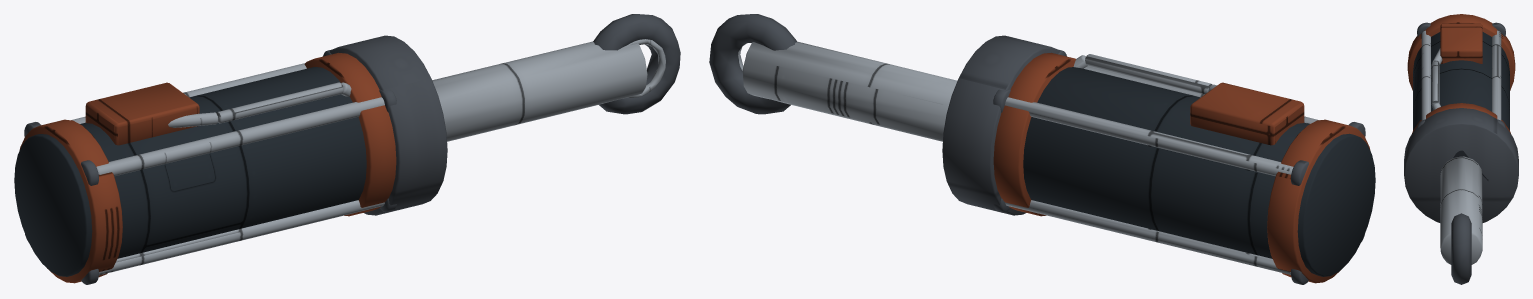
Rendered from ops_piston_ram_lod1.glb.
3 views of the same model, side by side, from view 1: azimuth 30°, elevation 25°; view 2: azimuth 150°, elevation 25°; view 3: azimuth 270°, elevation 25° (orthographic). The views are drawn at different scales.
Parts seen in each view (by area): view 1: LOD1_Armor, LOD1_Hull, LOD1_MOTION_RAM_EXTENSION_BrushedMetal, LOD1_BrushedMetal, LOD1_Mechanical, LOD1_MOTION_RAM_EXTENSION_Mechanical; view 2: LOD1_Armor, LOD1_Hull, LOD1_MOTION_RAM_EXTENSION_BrushedMetal, LOD1_Mechanical, LOD1_BrushedMetal, LOD1_MOTION_RAM_EXTENSION_Mechanical; view 3: LOD1_Mechanical, LOD1_Armor, LOD1_Hull, LOD1_MOTION_RAM_EXTENSION_BrushedMetal, LOD1_BrushedMetal, LOD1_MOTION_RAM_EXTENSION_Mechanical, LOD1_MechanicalDark.
Boxes of the visible parts, x1,y1,x2,y2 form: LOD1_Armor: [14, 67, 366, 276]; LOD1_Hull: [19, 52, 396, 283]; LOD1_MOTION_RAM_EXTENSION_BrushedMetal: [432, 39, 665, 141]; LOD1_BrushedMetal: [71, 63, 384, 275]; LOD1_Mechanical: [24, 35, 447, 284]; LOD1_MOTION_RAM_EXTENSION_Mechanical: [593, 14, 680, 114]; LOD1_Armor: [1023, 67, 1375, 276]; LOD1_Hull: [993, 52, 1370, 283]; LOD1_MOTION_RAM_EXTENSION_BrushedMetal: [738, 41, 957, 141]; LOD1_Mechanical: [942, 35, 1365, 284]; LOD1_BrushedMetal: [1005, 54, 1319, 274]; LOD1_MOTION_RAM_EXTENSION_Mechanical: [709, 14, 796, 114]; LOD1_Mechanical: [1404, 22, 1518, 222]; LOD1_Armor: [1413, 32, 1509, 130]; LOD1_Hull: [1407, 14, 1515, 134]; LOD1_MOTION_RAM_EXTENSION_BrushedMetal: [1440, 156, 1482, 264]; LOD1_BrushedMetal: [1421, 30, 1501, 120]; LOD1_MOTION_RAM_EXTENSION_Mechanical: [1451, 213, 1471, 284]; LOD1_MechanicalDark: [1453, 150, 1488, 180].
Size of the model in its own units: 3.19 by 0.7703 by 0.7585.
Materials: 5 (5 with a texture image).
